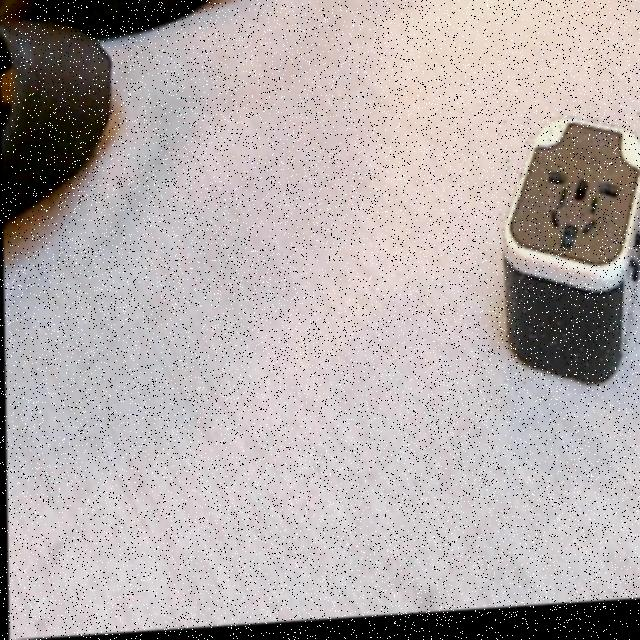adapter: (498, 118, 640, 396)
